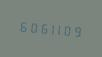nine: (71, 21, 79, 39)
one: (44, 19, 52, 37), (53, 20, 61, 37)
six: (35, 18, 43, 36), (17, 17, 25, 34)
zero: (26, 17, 34, 35), (62, 21, 70, 38)
